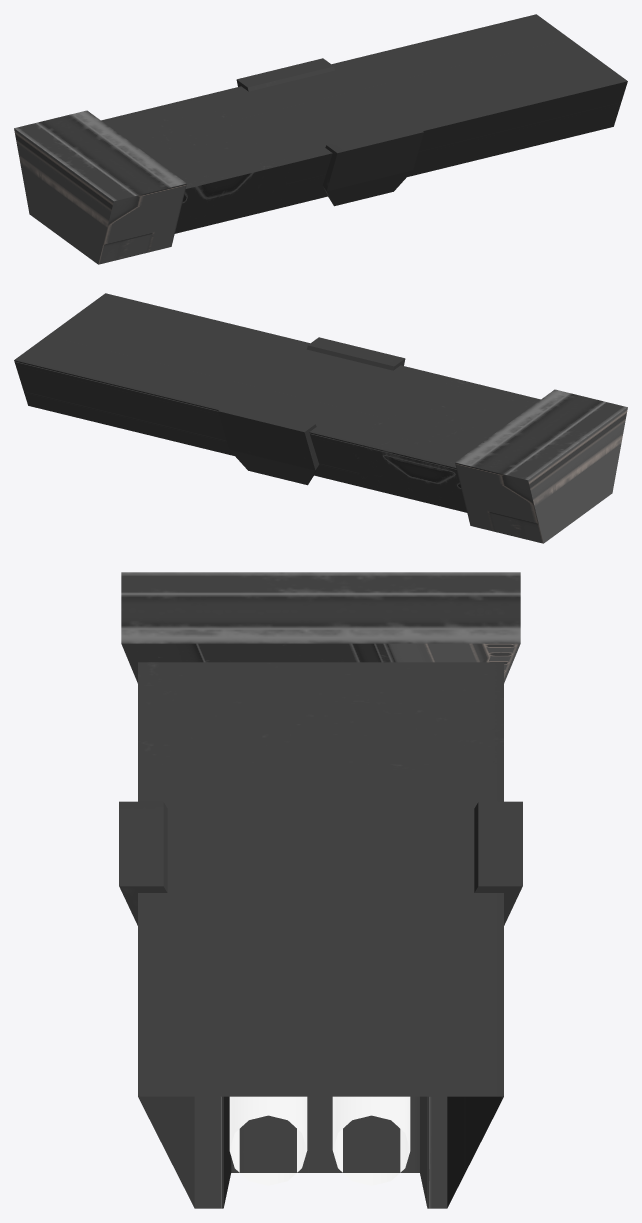
The model's file is quaternius-scifi-light-wide.glb.
The picture shows the model from 3 angles, top to bottom: view 1: azimuth 30°, elevation 25°; view 2: azimuth 150°, elevation 25°; view 3: azimuth 270°, elevation 25°; orthographic projection. The views are drawn at different scales.
Parts seen in each view (by area): view 1: Prop_Light_Wide; view 2: Prop_Light_Wide; view 3: Prop_Light_Wide.
Boxes of the visible parts, x1,y1,x2,y2 form: Prop_Light_Wide: [14, 14, 627, 264]; Prop_Light_Wide: [14, 293, 627, 543]; Prop_Light_Wide: [119, 572, 522, 1208].
Bounding box in the file's own units: 1.32 × 0.1819 × 0.4453.
2 materials, 1 textured.
